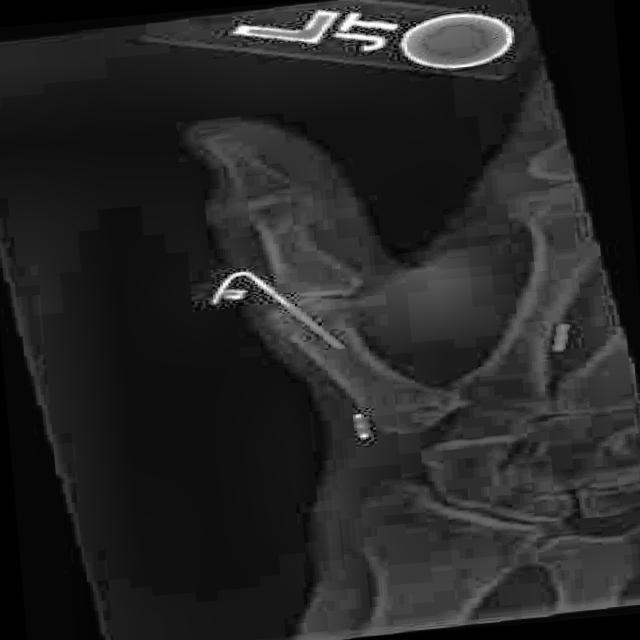fingers positive: (348, 375, 488, 449), (263, 300, 388, 358)
